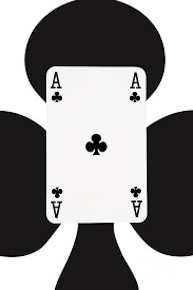AceOfClubs: (39, 65, 151, 227)
